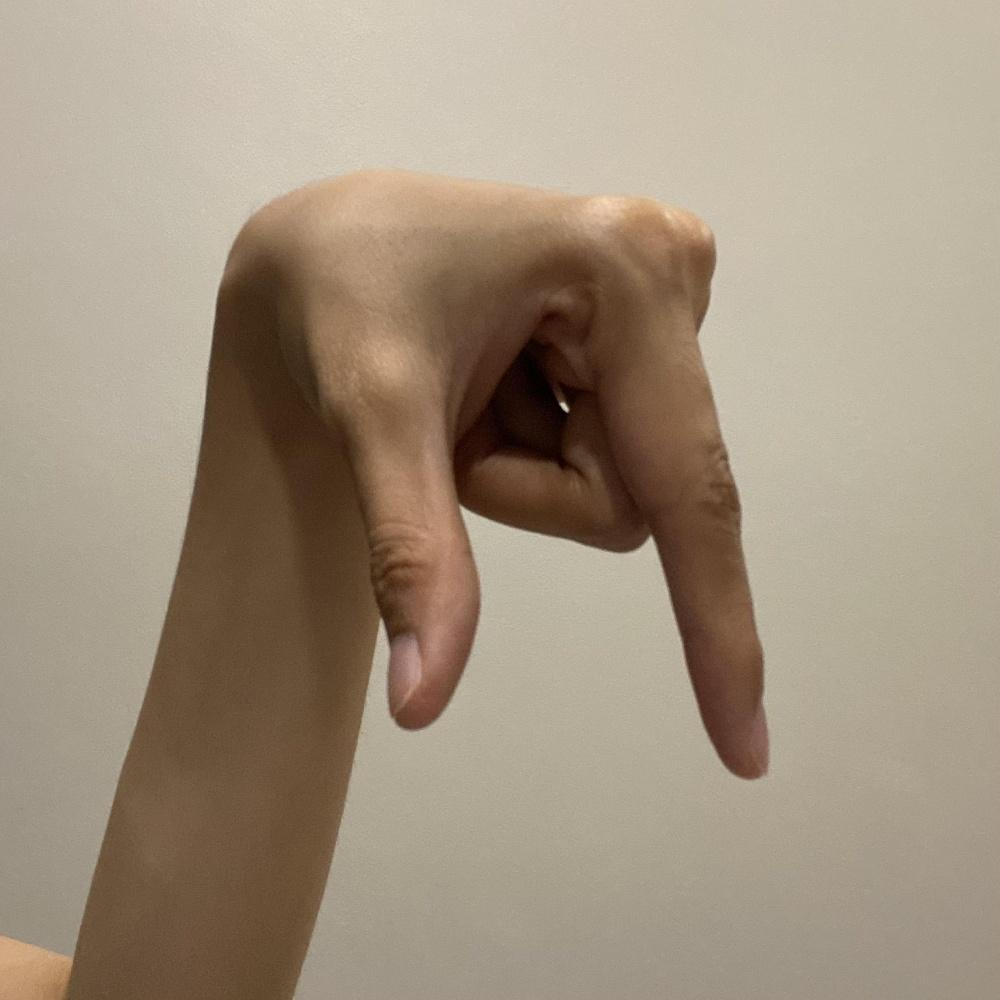q: (293, 160, 777, 785)
